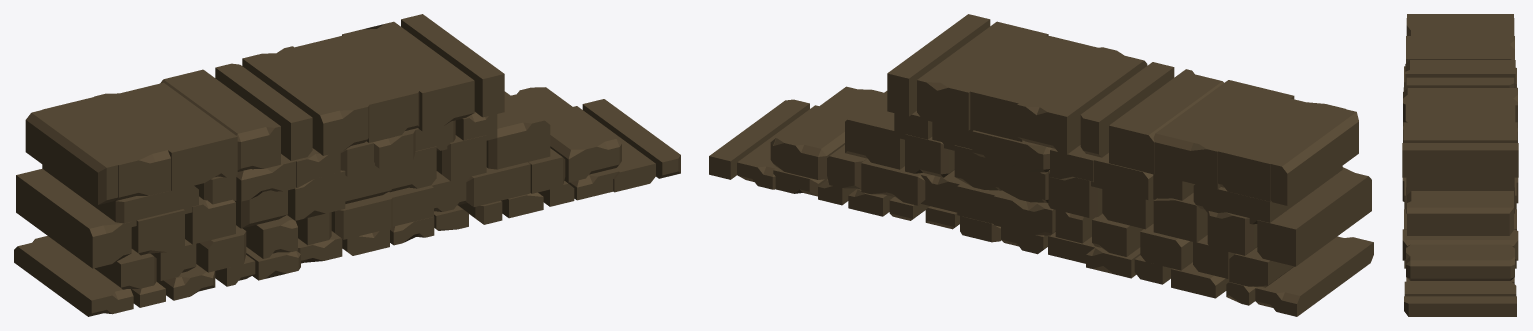
The model's file is Wall1 1.fbx.
3 views of the same model, side by side, from view 1: azimuth 30°, elevation 25°; view 2: azimuth 150°, elevation 25°; view 3: azimuth 270°, elevation 25° (orthographic). The views are drawn at different scales.
Visible parts, largest first — view 1: Wall.001; view 2: Wall.001; view 3: Wall.001.
Boxes of the visible parts, bbox=[...] form: Wall.001: bbox=[14, 14, 680, 316]; Wall.001: bbox=[709, 14, 1373, 316]; Wall.001: bbox=[1402, 14, 1518, 316].
Size of the model in its own units: 876 by 208 by 210.
